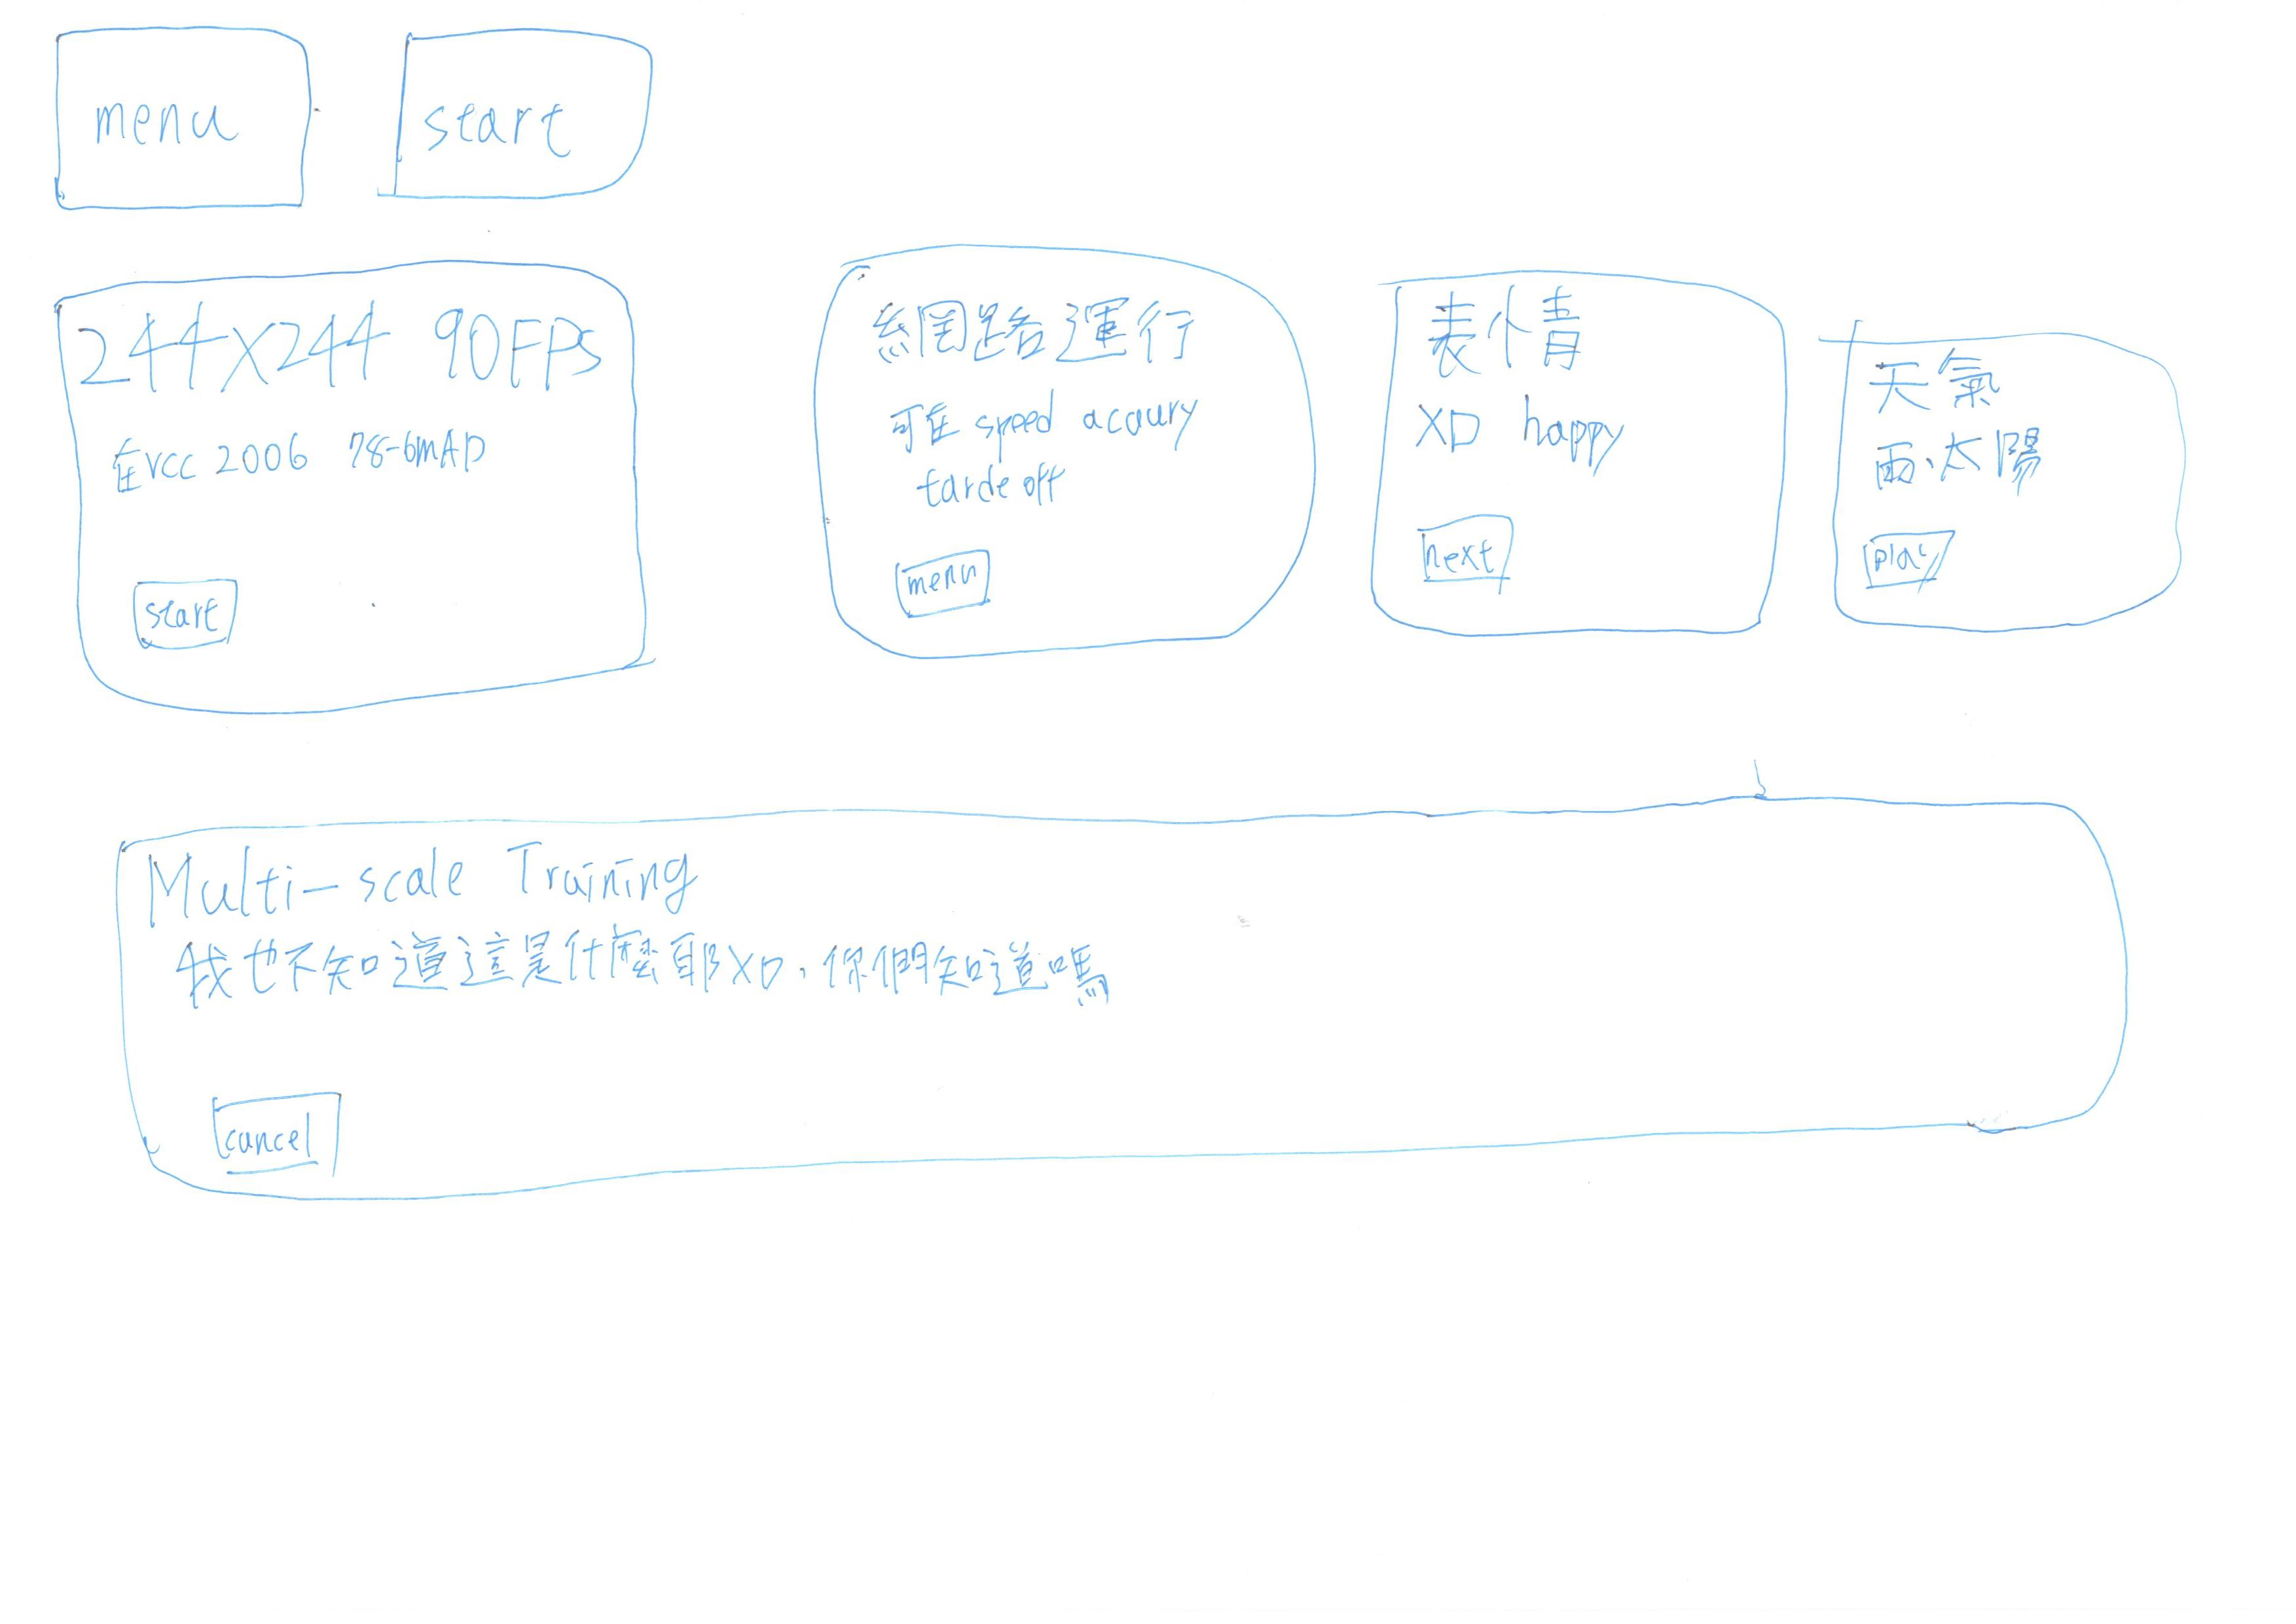cancel: (195, 1081, 353, 1181)
menu: (32, 11, 334, 234), (870, 543, 1016, 638)
next: (1398, 503, 1542, 606)
play: (1842, 515, 2013, 624)
quadruple: (40, 246, 691, 724), (767, 216, 1348, 698), (1362, 234, 1811, 682), (1809, 294, 2224, 700)
row: (0, 731, 2296, 1237), (0, 220, 2296, 724), (0, 0, 2296, 241)
single: (62, 770, 2159, 1225)
small-title: (84, 306, 592, 401), (144, 837, 707, 917), (861, 286, 1213, 369), (1864, 353, 2069, 487), (1433, 290, 1610, 383)
start: (376, 11, 700, 225), (116, 568, 264, 664)
text: (890, 366, 1238, 515), (86, 418, 526, 492), (1426, 385, 1612, 469)
